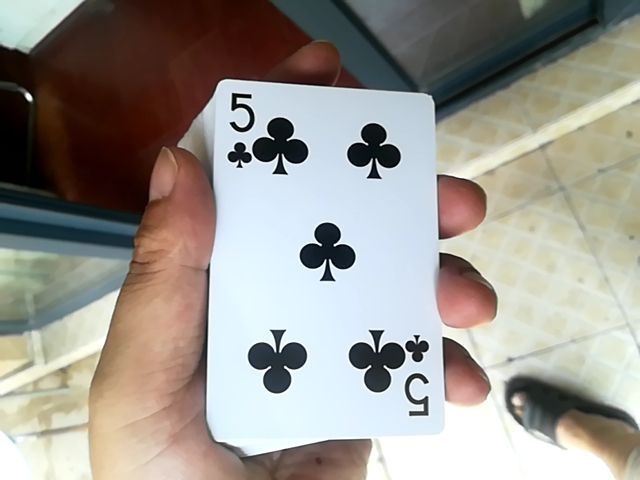mh 5: (200, 76, 445, 462)
